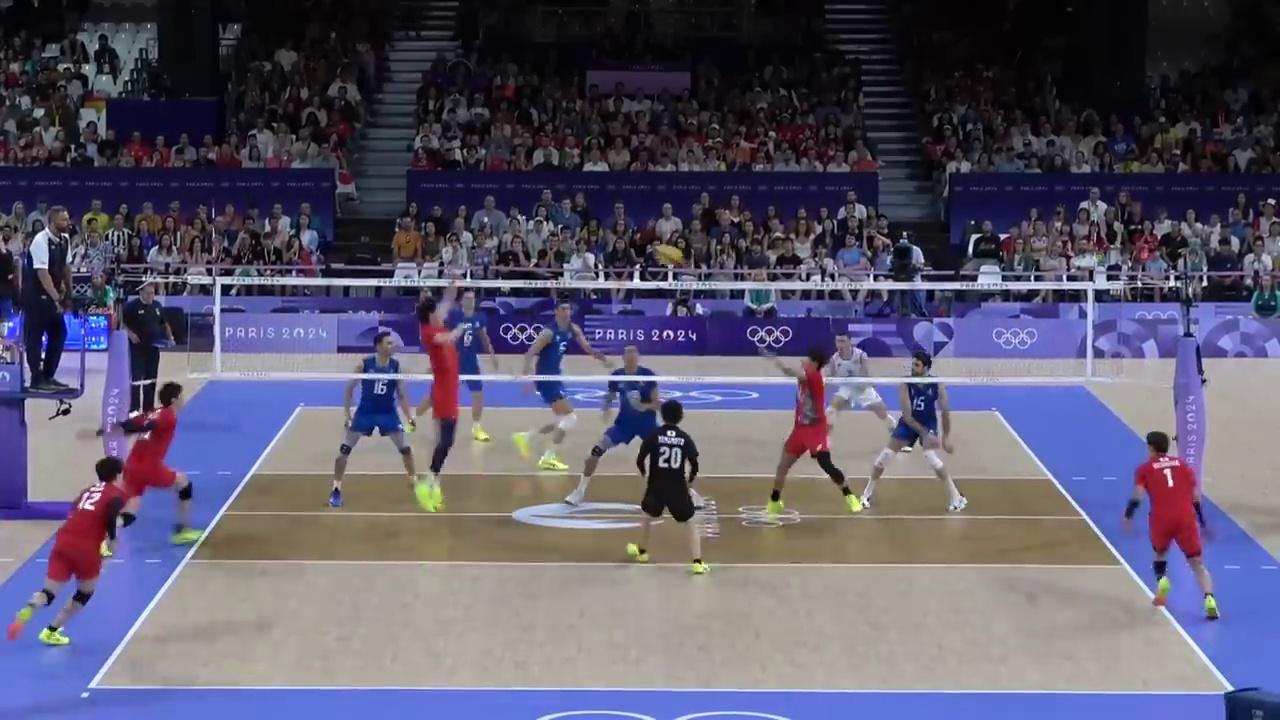ball: (652, 243, 682, 266)
